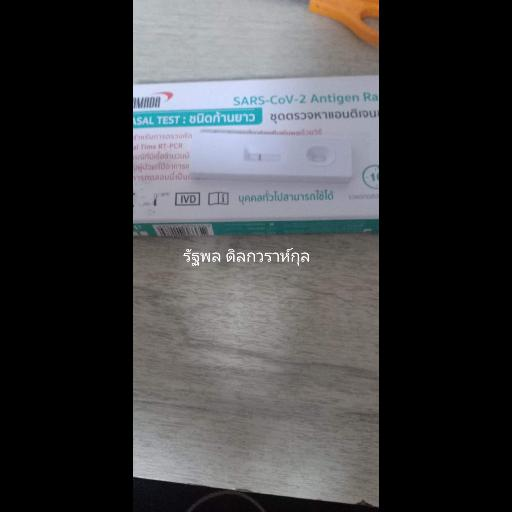Neg: (188, 136, 352, 174)
